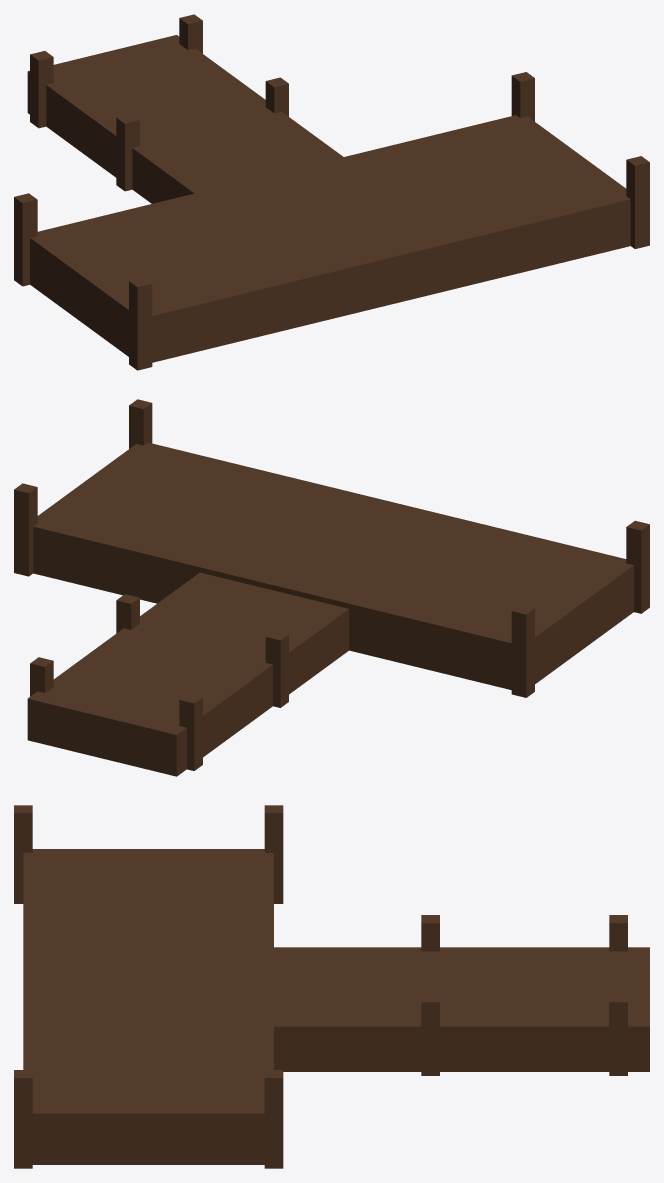
Rendered from landing.obj.
3 views of the same model, one above another, from view 1: azimuth 30°, elevation 25°; view 2: azimuth 150°, elevation 25°; view 3: azimuth 270°, elevation 25° (orthographic). The views are drawn at different scales.
Size of the model in its own units: 10.3 by 1.6 by 10.15.
